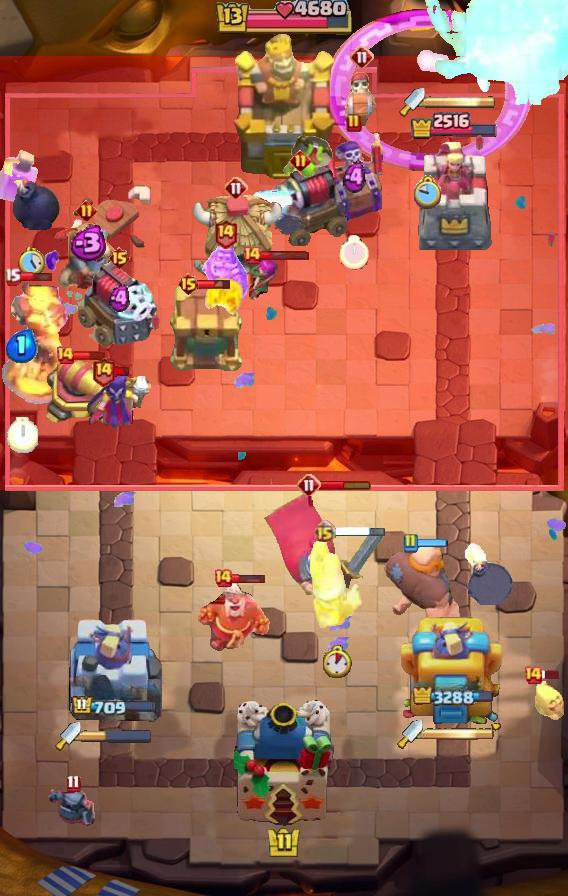axe: (84, 369, 160, 431)
baby-dragon: (1, 159, 61, 231), (462, 543, 514, 605)
balloon: (382, 542, 462, 630)
bar: (401, 611, 505, 731), (66, 611, 162, 731), (412, 140, 494, 256)
bar-level: (281, 133, 335, 181)
bat-evolution: (531, 677, 565, 721)
battle-ram: (47, 785, 99, 829)
bomb: (165, 285, 243, 373)
cannon: (246, 259, 284, 305)
clock: (213, 0, 355, 38)
electro-dragon: (0, 279, 78, 407)
electro-spirit: (64, 225, 107, 261), (6, 329, 38, 363), (342, 162, 365, 195), (110, 283, 131, 312)
elixir: (6, 417, 37, 453), (339, 235, 369, 269), (323, 645, 352, 678), (414, 175, 442, 209), (19, 247, 45, 277)
elixir-collector: (196, 579, 274, 653)
emote: (333, 525, 387, 539), (320, 479, 373, 491), (260, 250, 310, 261), (18, 270, 53, 283), (197, 278, 232, 290), (231, 572, 266, 584), (72, 350, 106, 361), (415, 538, 449, 548), (541, 668, 561, 679), (114, 367, 131, 378)
firecracker: (309, 534, 365, 631)
firecracker-evolution: (202, 242, 248, 300)
golem: (253, 160, 347, 246), (76, 259, 162, 349)
king-tower: (231, 35, 337, 182), (234, 700, 334, 826)
king-tower-bar: (423, 727, 495, 741), (81, 729, 153, 743), (425, 95, 495, 109)
knight: (340, 71, 384, 129)
knight-evolution: (324, 8, 532, 171), (0, 150, 38, 207)
mega-knight: (404, 1, 568, 132)
prince: (189, 193, 283, 283)
ram-rider: (50, 220, 122, 292)
royal-recruit: (41, 352, 119, 428)
selected: (410, 110, 499, 140), (71, 694, 157, 717), (413, 687, 493, 709)
skeleton-king-bar: (321, 128, 387, 222)
text: (213, 219, 238, 250), (92, 357, 117, 388), (350, 45, 374, 69), (224, 176, 248, 200), (297, 473, 321, 497), (109, 246, 132, 270), (177, 272, 200, 296), (313, 520, 336, 544), (289, 149, 311, 170), (75, 199, 96, 221), (242, 245, 262, 265), (55, 345, 75, 365), (213, 568, 233, 588), (523, 665, 543, 685), (4, 267, 21, 286), (346, 113, 362, 133), (402, 533, 418, 553), (67, 775, 82, 793)
valkyrie: (200, 276, 246, 324)
wall-breaker-evolution: (263, 489, 386, 603)
